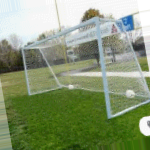goals: (20, 16, 150, 119)
